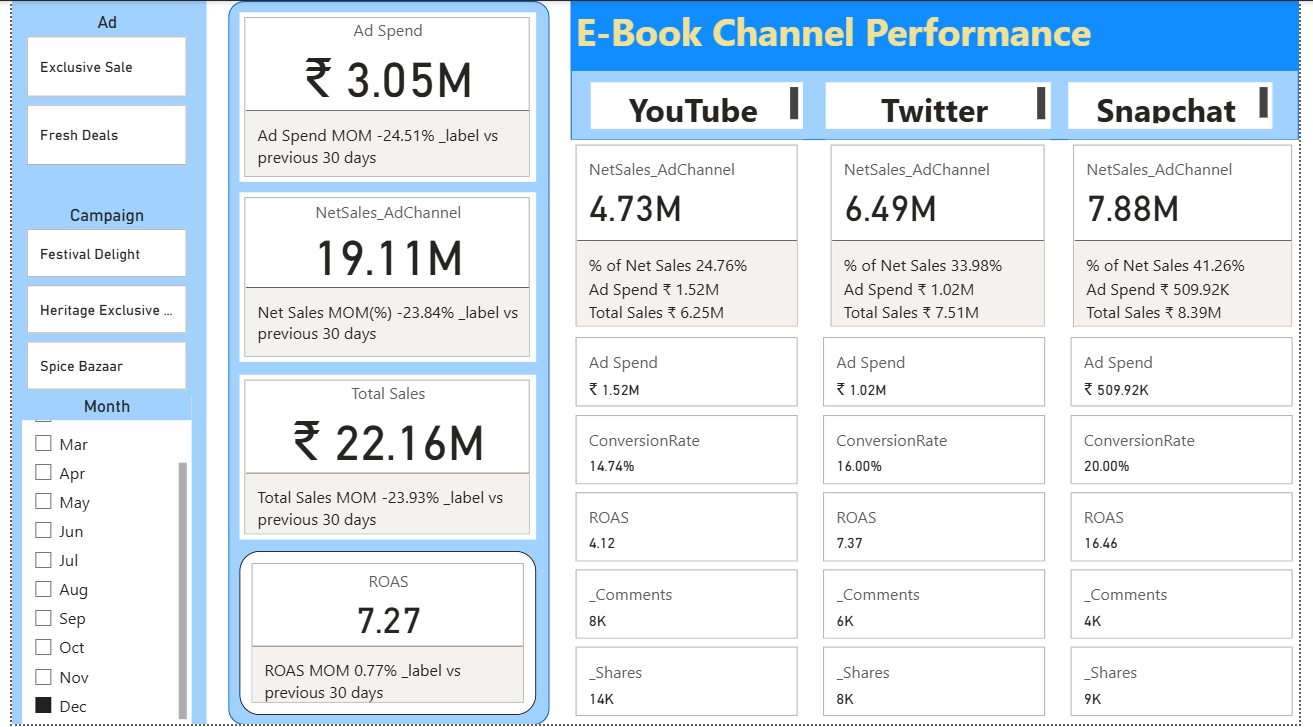

This screenshot's page, from the dashboard's own definition file:
{"tool":"powerbi","page":{"name":"Monthly Campaign Analysis","canvas":[1280,720],"ordinal":1},"visuals":[{"type":"shape","box":[215.4,0,319.7,720.4],"z":0},{"type":"textbox","box":[0,0,193.5,720.4],"z":1000},{"type":"cardVisual","fields":{"Data":["A_Measure.Ad Spend"]},"box":[226.4,11.2,294.8,169.2],"z":2000},{"type":"cardVisual","fields":{"Data":["A_Measure.NetSales_AdChannel"]},"box":[226.4,190.3,294.8,169.2],"z":3000},{"type":"cardVisual","fields":{"Data":["A_Measure.Total Sales"]},"box":[226.4,371.9,294.8,164.2],"z":4000},{"type":"cardVisual","fields":{"Data":["A_Measure.ROAS"]},"box":[226.4,547.5,295,163.3],"z":5000},{"type":"shape","box":[555.7,0,724.5,138.6],"z":6000},{"type":"textbox","box":[555.7,0,724.5,70],"z":7000},{"type":"textbox","box":[576.3,81,211.3,46.7],"z":8000},{"type":"textbox","box":[809.6,81,223.7,46.7],"z":9000},{"type":"textbox","box":[1051.1,81,203.1,46.7],"z":10000},{"type":"cardVisual","fields":{"Data":["A_Measure.NetSales_AdChannel"]},"box":[556,138.1,231.4,191.6],"z":11000},{"type":"cardVisual","fields":{"Data":["A_Measure.NetSales_AdChannel"]},"box":[809.8,138.1,223.9,191.6],"z":12000},{"type":"cardVisual","fields":{"Data":["A_Measure.NetSales_AdChannel"]},"box":[1051.1,138.1,228.9,191.6],"z":13000},{"type":"cardVisual","fields":{"Data":["A_Measure.Ad Spend","A_Measure.ConversionRate","A_Measure.ROAS","A_Measure._Comments","A_Measure._Shares"]},"box":[556,329.6,231.4,390.6],"z":14000},{"type":"cardVisual","fields":{"Data":["A_Measure.Ad Spend","A_Measure.ConversionRate","A_Measure.ROAS","A_Measure._Comments","A_Measure._Shares"]},"box":[802.4,329.6,231.4,390.6],"z":15000},{"type":"cardVisual","fields":{"Data":["A_Measure.Ad Spend","A_Measure.ConversionRate","A_Measure.ROAS","A_Measure._Comments","A_Measure._Shares"]},"box":[1048.7,329.6,231.4,390.6],"z":16000},{"type":"advancedSlicerVisual","fields":{"Values":["PageTurner Digital Marketing Campaign - data.Ad"]},"box":[10,11.2,169.2,158],"z":17000},{"type":"advancedSlicerVisual","fields":{"Values":["PageTurner Digital Marketing Campaign - data.Campaign"]},"box":[10,202.8,169.2,190.3],"z":18000},{"type":"slicer","title":"Month","fields":{"Values":["Calender.MonthName"]},"box":[10,393.1,169.2,327.2],"z":19000}]}

Visuals, with their boxes in screenshot pixels (x1, y1, x2, y2), scaled from the page's 1280x720 canvas onto the 1313x727 screenshot:
shape: 221 0 549 726
textbox: 0 0 198 726
cardVisual - A_Measure.Ad Spend: 232 11 535 182
cardVisual - A_Measure.NetSales_AdChannel: 232 192 535 363
cardVisual - A_Measure.Total Sales: 232 376 535 541
cardVisual - A_Measure.ROAS: 232 553 535 718
shape: 570 0 1312 140
textbox: 570 0 1312 71
textbox: 591 82 808 129
textbox: 830 82 1060 129
textbox: 1078 82 1287 129
cardVisual - A_Measure.NetSales_AdChannel: 570 139 808 333
cardVisual - A_Measure.NetSales_AdChannel: 831 139 1060 333
cardVisual - A_Measure.NetSales_AdChannel: 1078 139 1312 333
cardVisual - A_Measure.Ad Spend x A_Measure.ConversionRate: 570 333 808 726
cardVisual - A_Measure.Ad Spend x A_Measure.ConversionRate: 823 333 1060 726
cardVisual - A_Measure.Ad Spend x A_Measure.ConversionRate: 1076 333 1312 726
advancedSlicerVisual - PageTurner Digital Marketing Campaign - data.Ad: 10 11 184 171
advancedSlicerVisual - PageTurner Digital Marketing Campaign - data.Campaign: 10 205 184 397
"Month" slicer: 10 397 184 726
